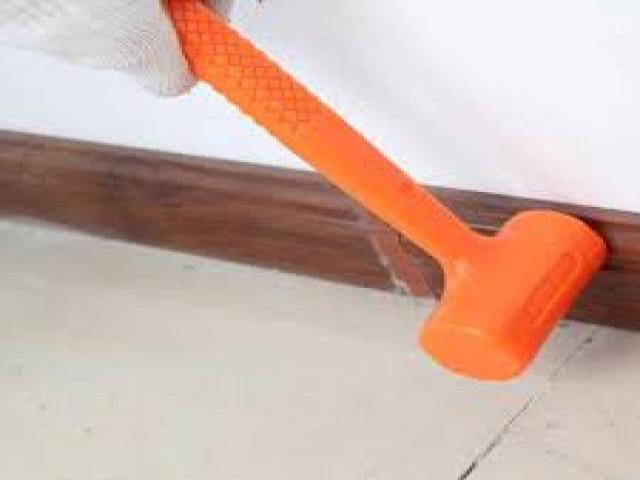hammer: (114, 0, 606, 380)
